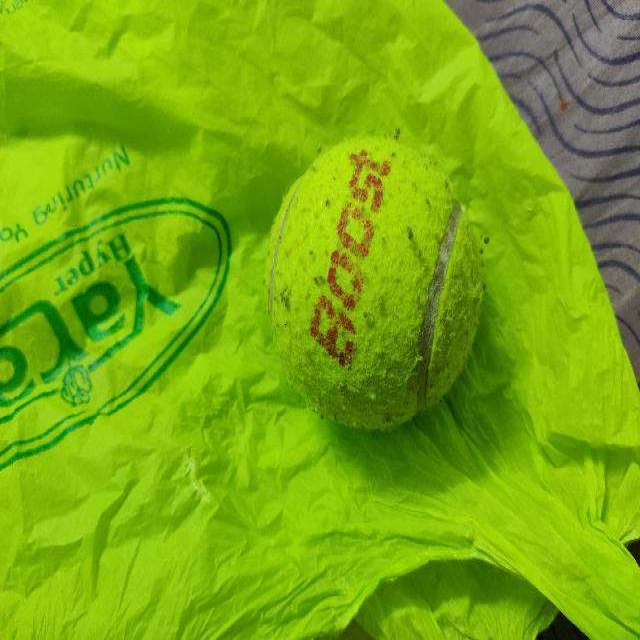tennis-ball: (263, 136, 485, 428)
